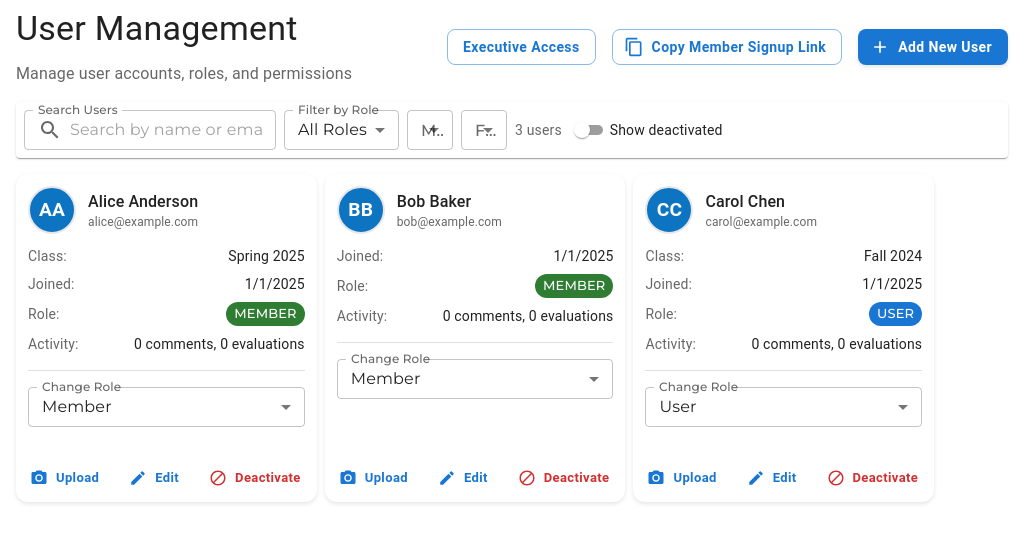
Scenario: UserManagement graduation class filter › filters by an unknown or blank graduation class and shows an active chip with count
Check: the heading "Alice Anderson" is shown, box [88,192,198,210]
Press the mouse on the dropdown next to "Filter by Class": x=484, y=130 [461,110,507,150]
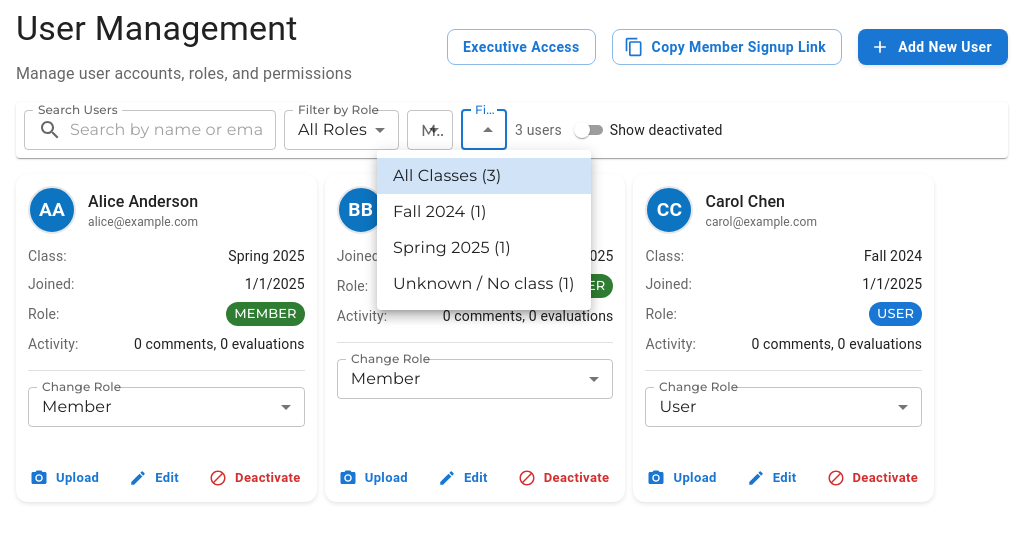
Click the option "Unknown / No class (1)": x=484, y=284 [393,274,575,293]
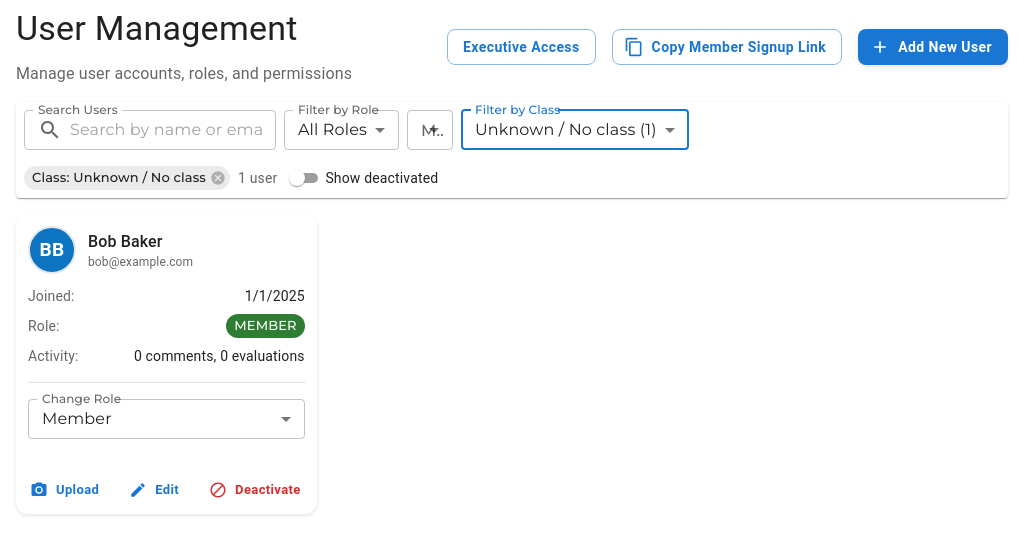
Check: the heading "Alice Anderson" is gone
Check: the text "Class: Unknown / No class" is shown, box [24,168,214,188]
Check: the text "1 user" is shown, box [238,168,277,188]
